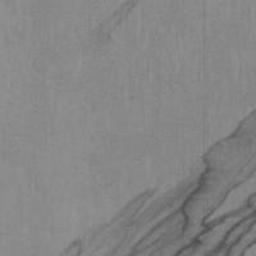Water spot: (54, 108, 256, 256), (86, 0, 140, 59)
